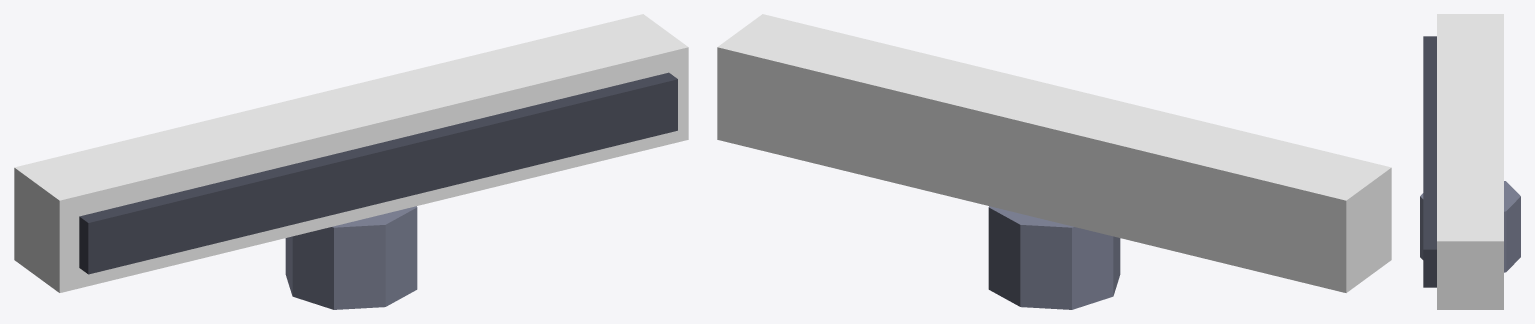
File: oil-refinery.radar.glb
3 views of the same model, side by side, from view 1: azimuth 30°, elevation 25°; view 2: azimuth 150°, elevation 25°; view 3: azimuth 270°, elevation 25° (orthographic). The views are drawn at different scales.
Visible parts, largest first — view 1: model; view 2: model; view 3: model.
Part boxes in pixels (left/top/right/bottom): model: left=14, top=14, right=688, bottom=309; model: left=717, top=14, right=1391, bottom=309; model: left=1420, top=14, right=1520, bottom=309.
Bounding box in the file's own units: 0.32 × 0.085 × 0.06.
1 material, 1 textured.
